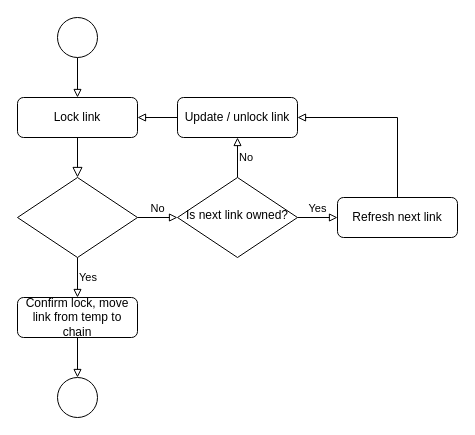
Some shapes in this 475 by 435 pixel diagram are drawn without their labels. Here are the shapes that lost their labels. From the top down, the centre of each, then its label:
At point (77, 37): "Start".
At point (77, 217): "No updates / unlocks?".
At point (77, 397): "Stop".
